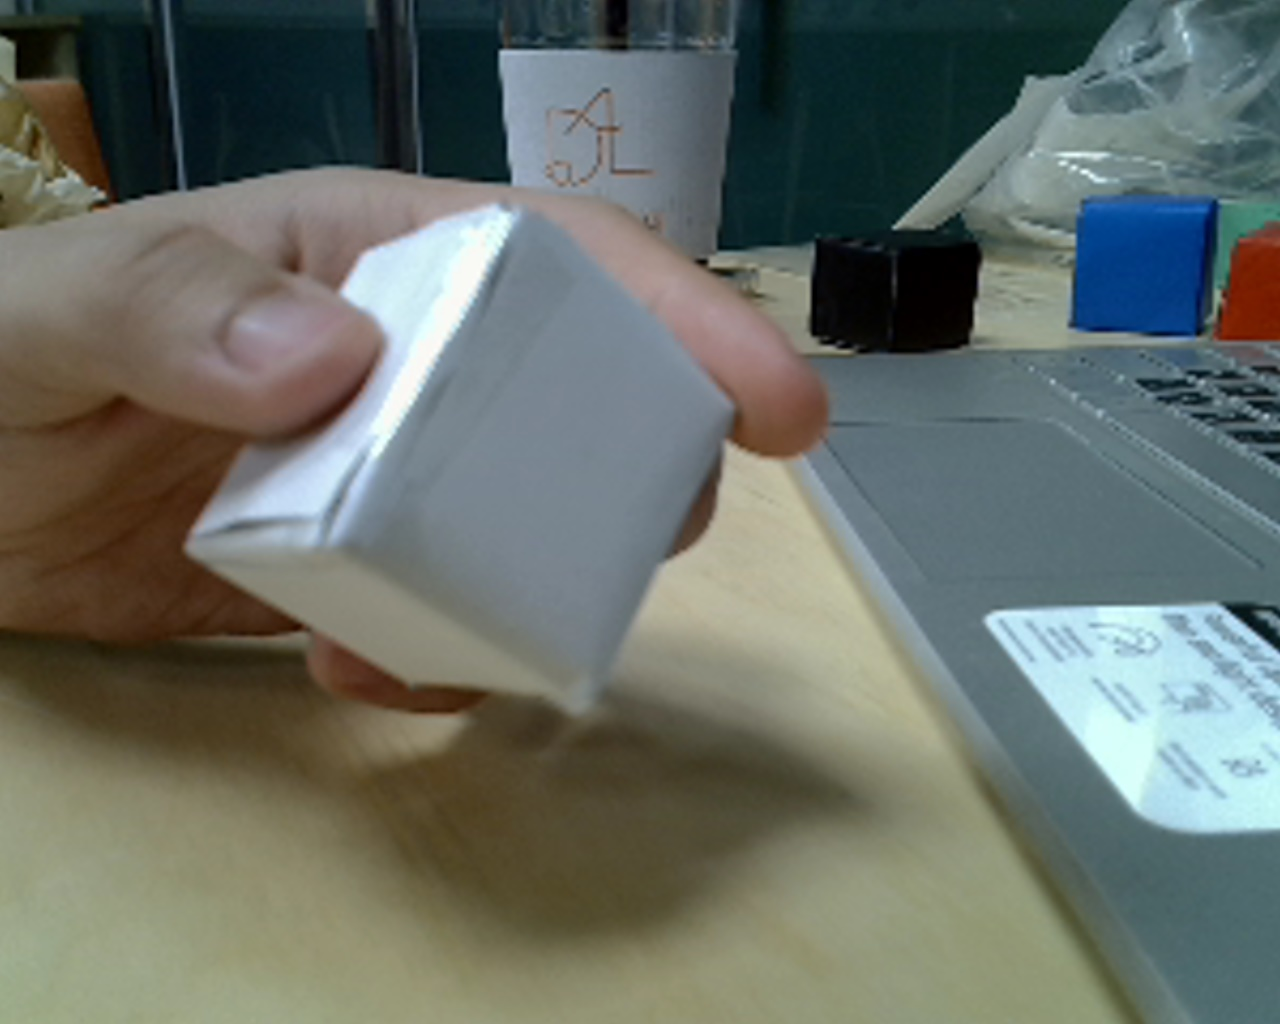whitebox: (149, 194, 782, 734)
